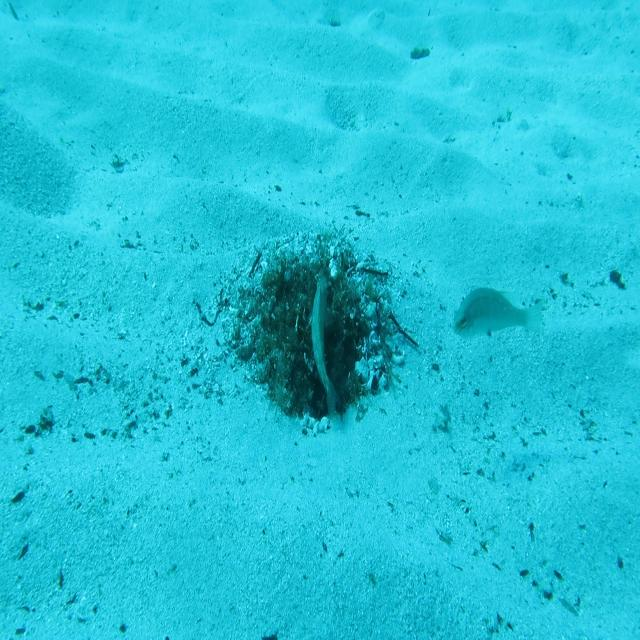FAN: (306, 270, 341, 425)
core_nest: (284, 273, 322, 300)
female: (449, 284, 546, 343)
nest: (218, 210, 416, 442)
vegetation: (607, 267, 627, 292), (408, 44, 430, 64), (262, 630, 282, 640)
